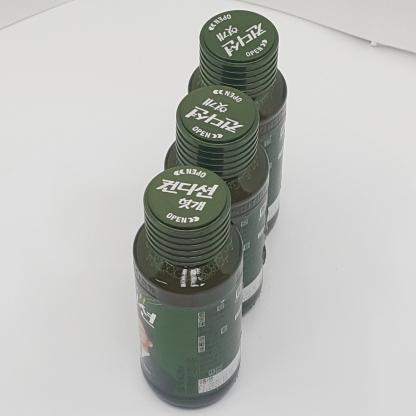CJ-----100ML: (133, 166, 244, 408)
